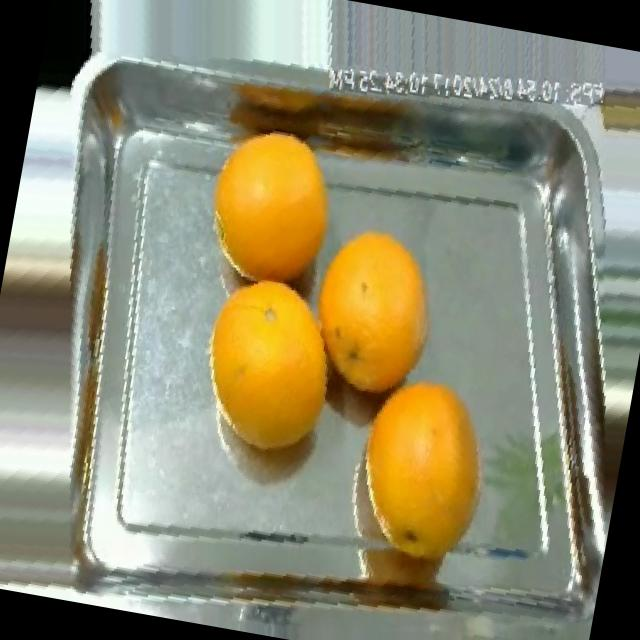Fruit: (334, 350, 522, 588), (178, 254, 362, 492), (180, 104, 358, 314), (293, 210, 459, 414)
